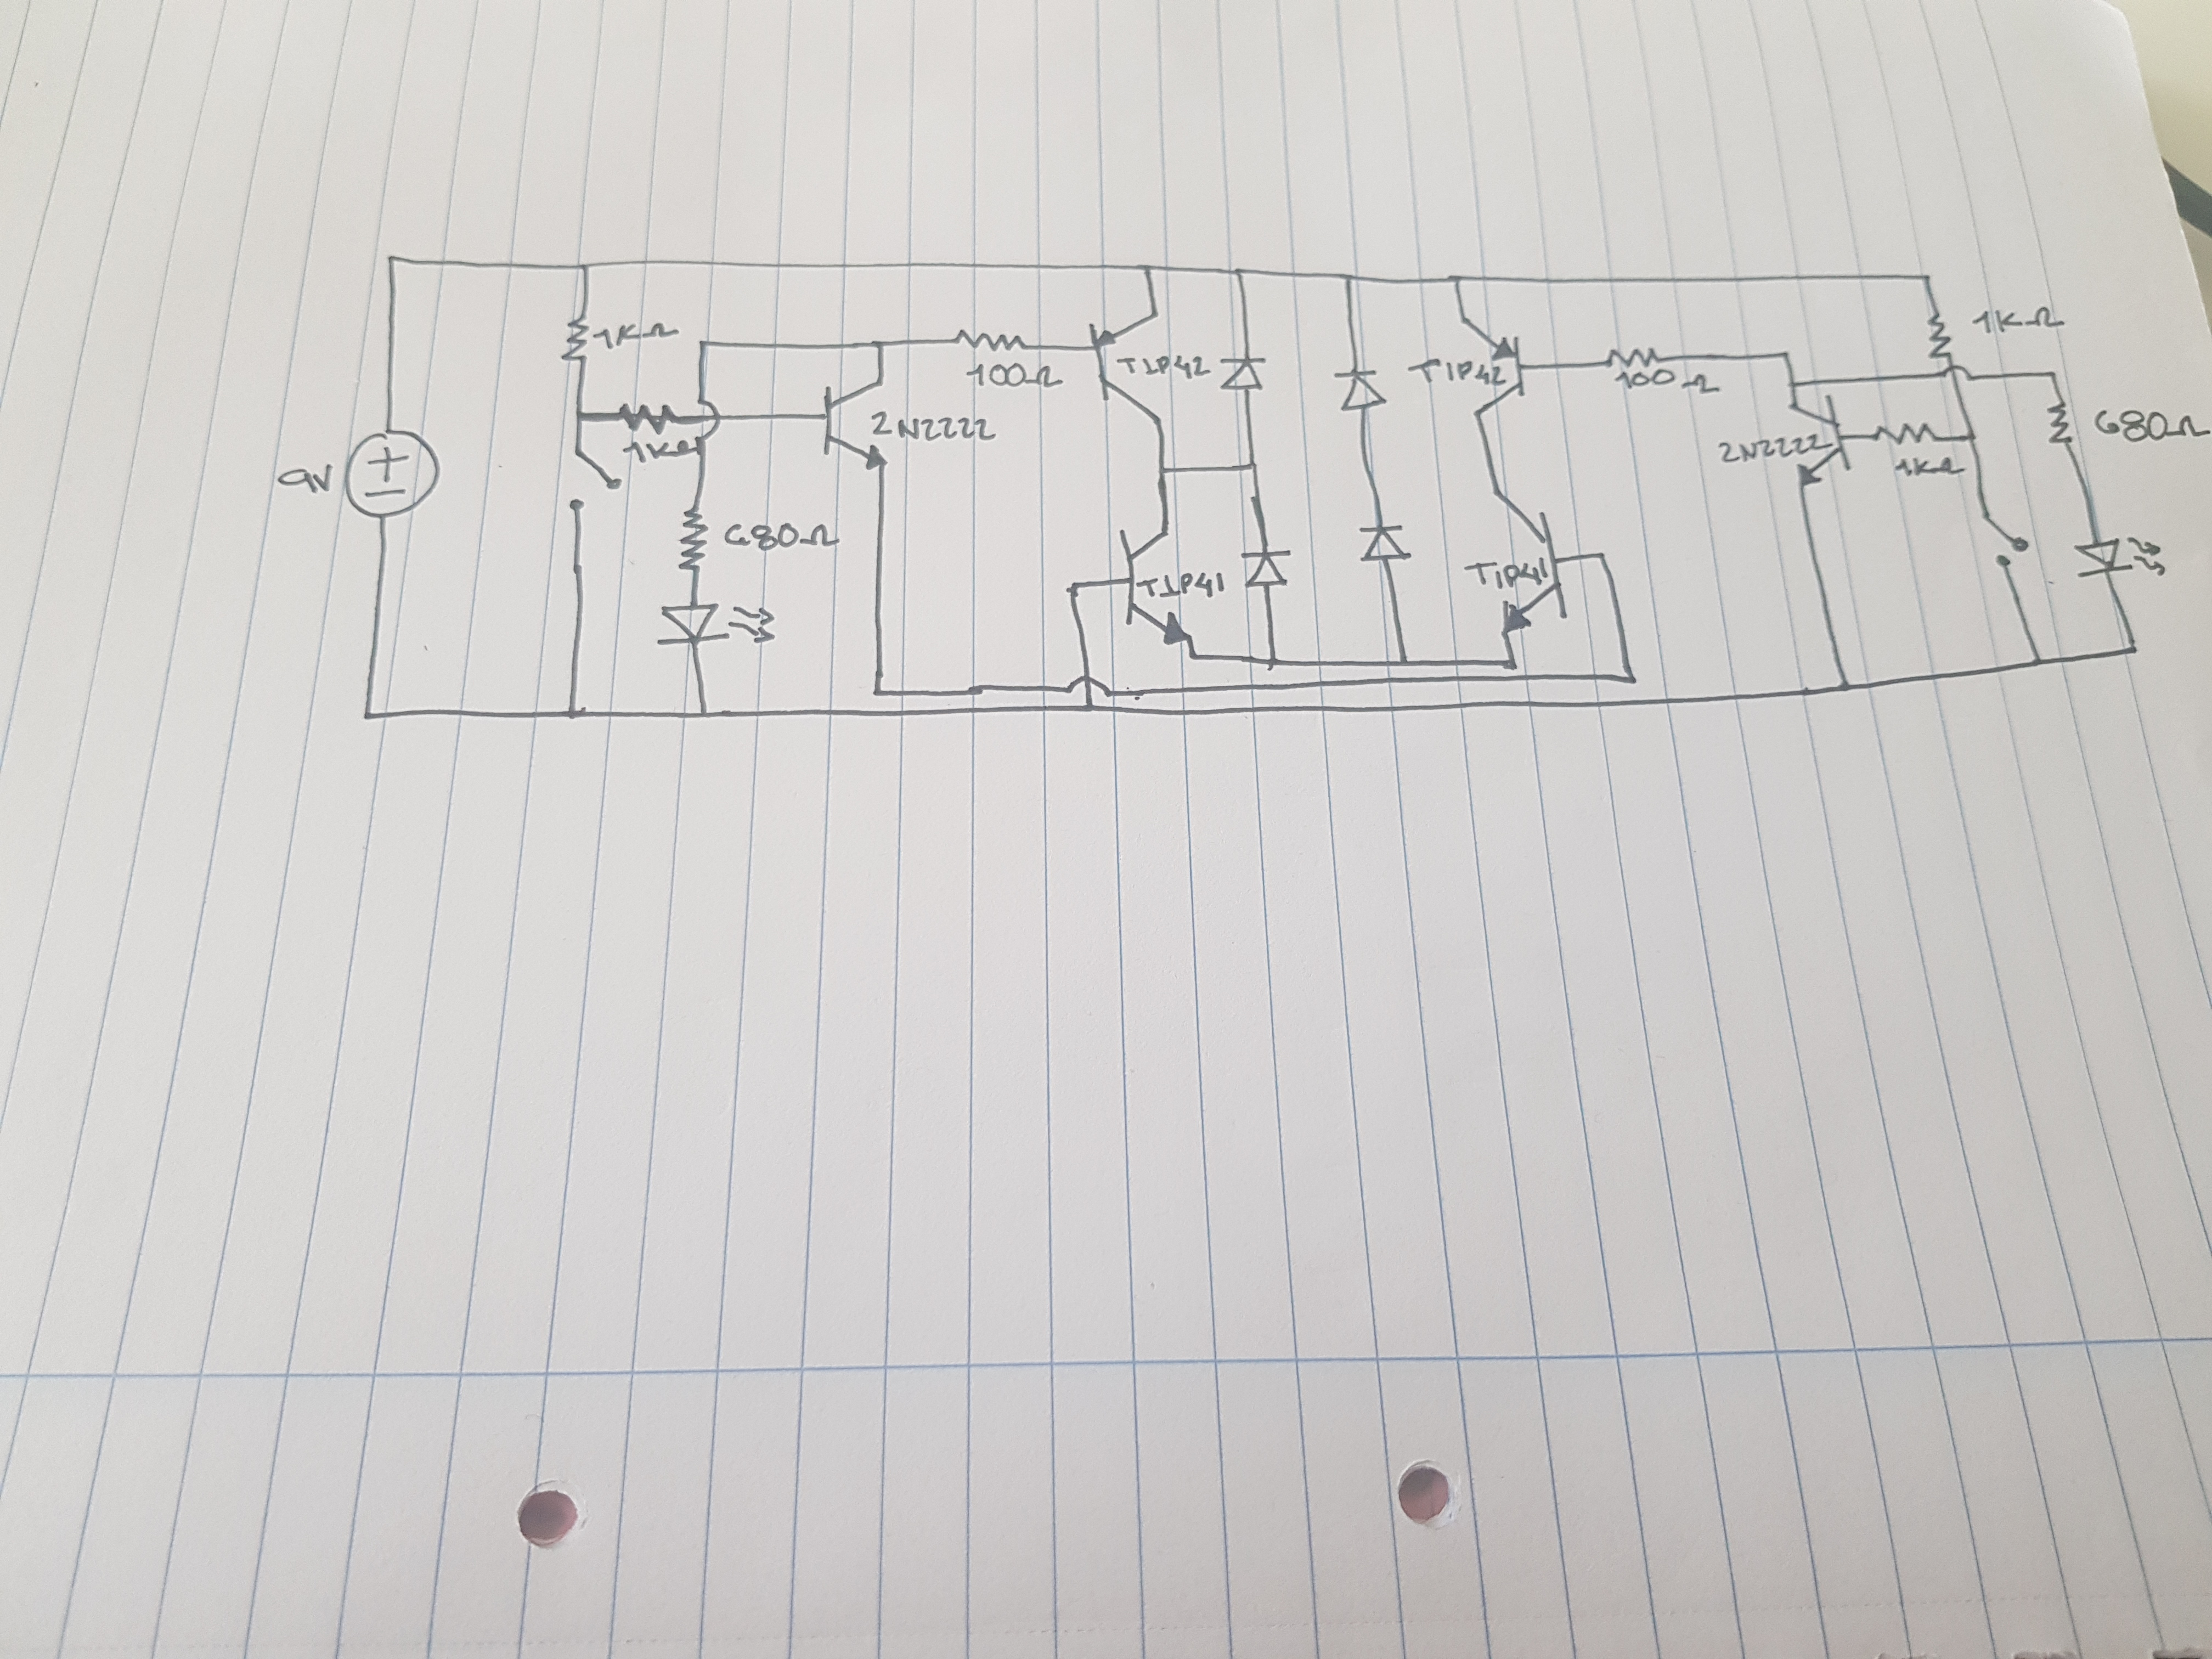crossover: (693, 397, 721, 446), (1062, 673, 1115, 697), (1937, 364, 1977, 383)
diode: (1237, 547, 1301, 594), (1329, 368, 1392, 415), (1355, 521, 1416, 568), (1214, 354, 1273, 397)
diode.light_emitting: (651, 599, 779, 650), (2069, 533, 2168, 582)
junction: (1834, 676, 1857, 702), (561, 702, 583, 727), (691, 701, 712, 723), (2118, 638, 2142, 657), (1064, 579, 1085, 599), (1242, 457, 1264, 476), (573, 404, 590, 429), (1261, 652, 1282, 671), (1616, 669, 1639, 687), (2027, 653, 2048, 671), (1963, 427, 1980, 446), (1339, 270, 1359, 288), (1231, 265, 1251, 282), (359, 706, 376, 725), (1590, 547, 1608, 565), (867, 683, 885, 701), (1082, 701, 1101, 716), (578, 260, 594, 279), (2040, 368, 2060, 382), (1447, 270, 1463, 288), (1397, 653, 1414, 669), (385, 251, 401, 268), (1918, 268, 1937, 282), (698, 335, 711, 356), (1785, 378, 1803, 392), (1501, 657, 1519, 671), (1155, 464, 1172, 477), (1139, 261, 1153, 277), (873, 338, 888, 352), (1778, 349, 1796, 361)
resistor: (948, 321, 1033, 357), (676, 502, 711, 584), (611, 399, 679, 439), (1867, 415, 1940, 450), (1601, 342, 1669, 373), (559, 308, 594, 366), (1923, 305, 1956, 362), (2043, 397, 2076, 453)
switch: (564, 444, 631, 521), (1973, 505, 2034, 572)
text: (2090, 406, 2212, 450), (867, 408, 991, 443), (1714, 430, 1831, 465), (1406, 354, 1510, 390), (723, 521, 838, 551), (967, 361, 1066, 394), (1968, 303, 2067, 336), (1134, 568, 1231, 599), (1116, 350, 1214, 382), (1613, 371, 1726, 397), (1463, 558, 1552, 591), (589, 319, 681, 349), (270, 460, 334, 498), (1890, 455, 1972, 479), (624, 439, 690, 464)
transistor: (1482, 484, 1571, 643), (1115, 523, 1200, 647), (1085, 305, 1172, 425), (817, 375, 895, 477), (1782, 390, 1860, 493), (1456, 315, 1529, 423)
voltage.dc: (340, 427, 451, 525)
